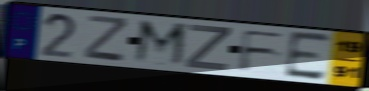2: (38, 12, 81, 59)
E: (283, 30, 333, 82)
F: (237, 28, 288, 73)
M: (131, 18, 190, 70)
Z: (183, 23, 233, 73), (82, 13, 130, 64)
